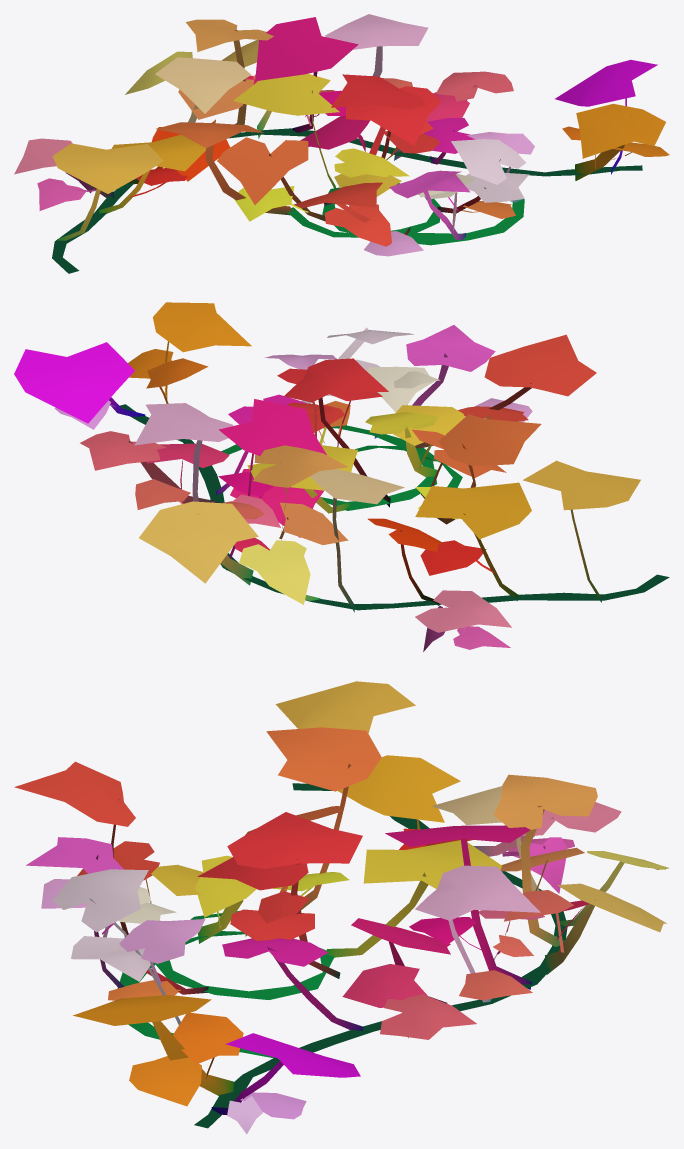
The model's file is English_Ivy_xfcnebhqx_High_xfcnebhqx_VarF_LOD2.fbx.
The picture shows the model from 3 angles, top to bottom: view 1: azimuth 30°, elevation 25°; view 2: azimuth 150°, elevation 25°; view 3: azimuth 270°, elevation 25°; orthographic projection. The views are drawn at different scales.
Parts seen in each view (by area): view 1: _br2c_VarF_LOD2; view 2: _br2c_VarF_LOD2; view 3: _br2c_VarF_LOD2.
Boxes of the visible parts, <box> form: _br2c_VarF_LOD2: <box>14,14,669,273</box>; _br2c_VarF_LOD2: <box>14,302,669,651</box>; _br2c_VarF_LOD2: <box>14,681,668,1134</box>.
Size of the model in its own units: 59.79 by 13.56 by 44.07.
